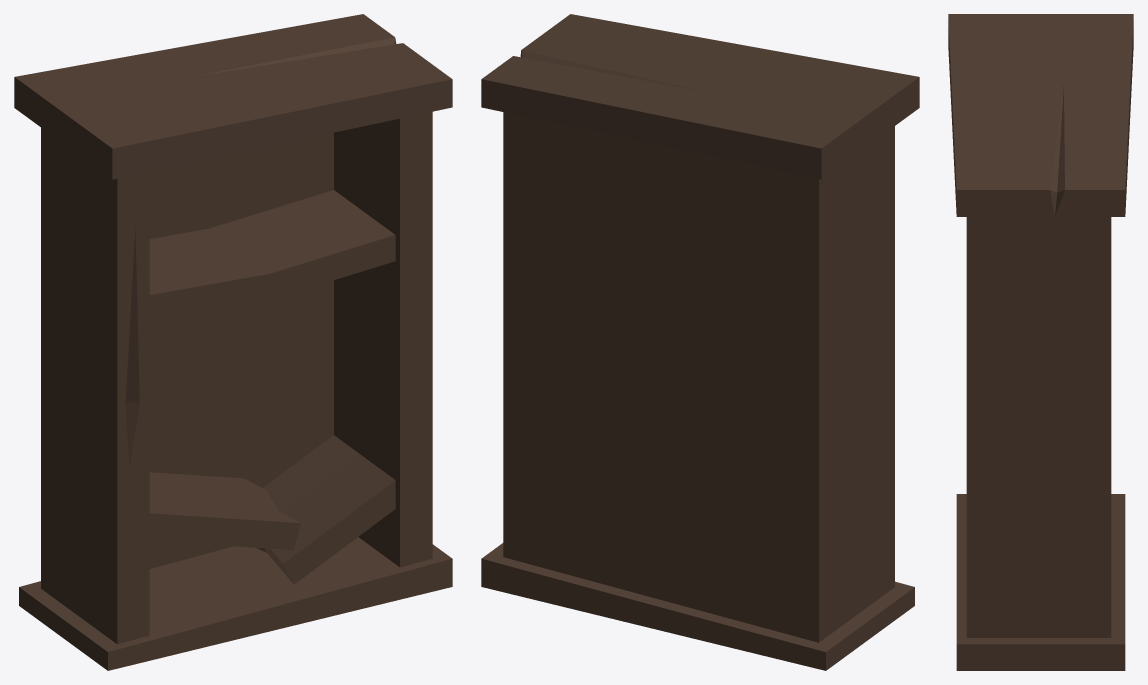
The model's file is bookshelf_3.fbx.
3 views of the same model, side by side, from view 1: azimuth 30°, elevation 25°; view 2: azimuth 150°, elevation 25°; view 3: azimuth 270°, elevation 25° (orthographic). The views are drawn at different scales.
Visible parts, largest first — view 1: bookshelf_3; view 2: bookshelf_3; view 3: bookshelf_3.
Boxes of the visible parts, left/top/right/bottom form: bookshelf_3: left=14, top=14, right=452, bottom=670; bookshelf_3: left=481, top=14, right=919, bottom=670; bookshelf_3: left=948, top=14, right=1133, bottom=670.
Bounding box in the file's own units: 141 × 205 × 69.44.
